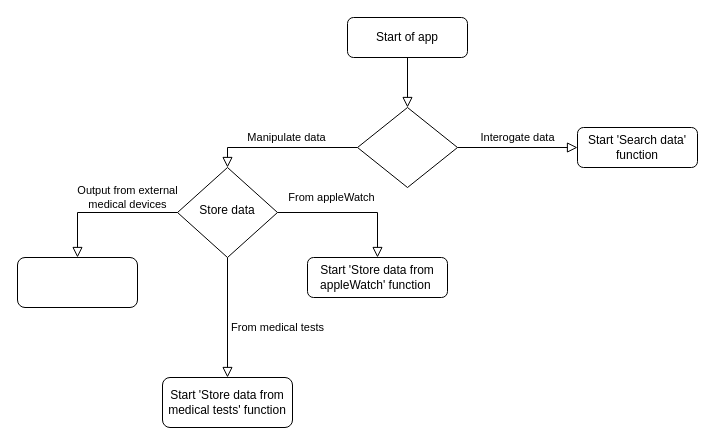
This 715x445 diagram has some shape labels left out. The shapes that lost their labels are listed below. From the top down, each one's centre as x and y in pixels, then its label:
At point 407,147: "Action".
At point 77,282: "Start 'Store data from external devices' function".
